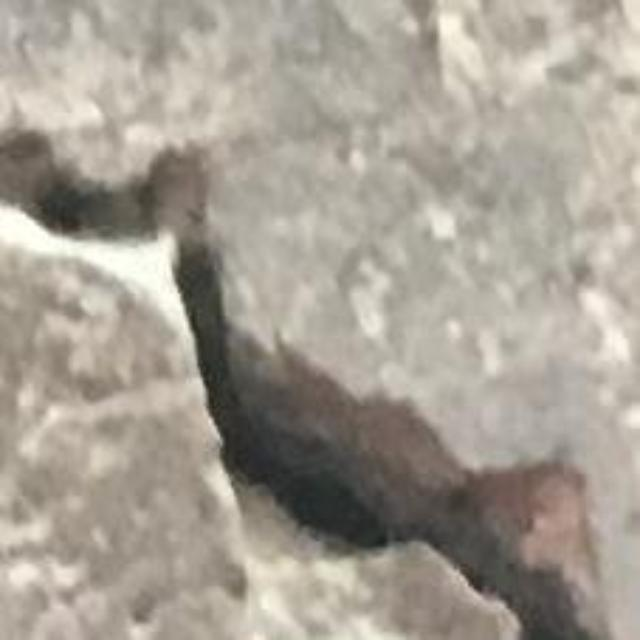crack: (0, 130, 597, 639)
